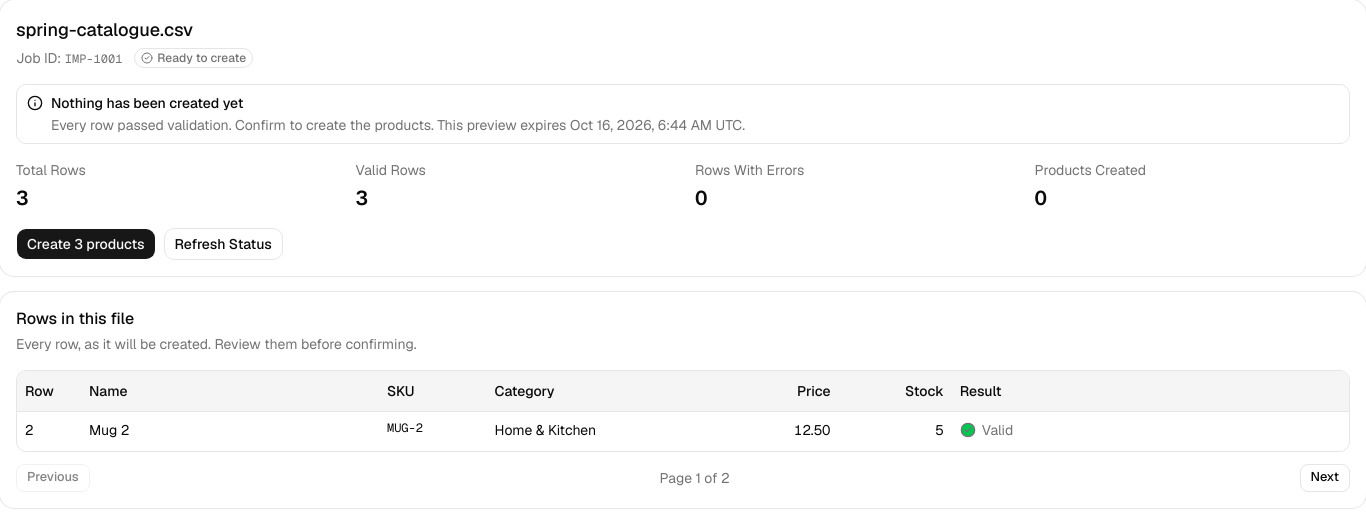
Test: a validated file that is ready › pages through every row
This screenshot has width=1366, height=526.
Expected: the text "MUG-2" is shown, [379,412,487,450]
Click the button "Next": x=1325, y=478 [1300,464,1350,492]
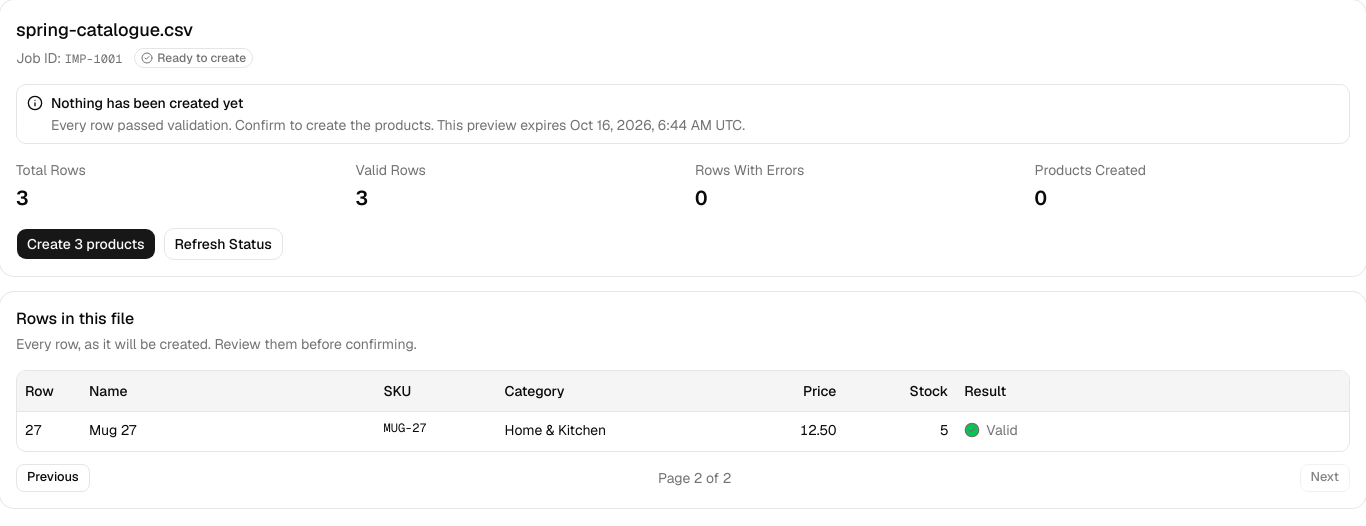
Now the text "MUG-27" is shown, box [376,412,497,450]
Now the text "Page 2 of 2" is shown, box [658,468,731,488]
